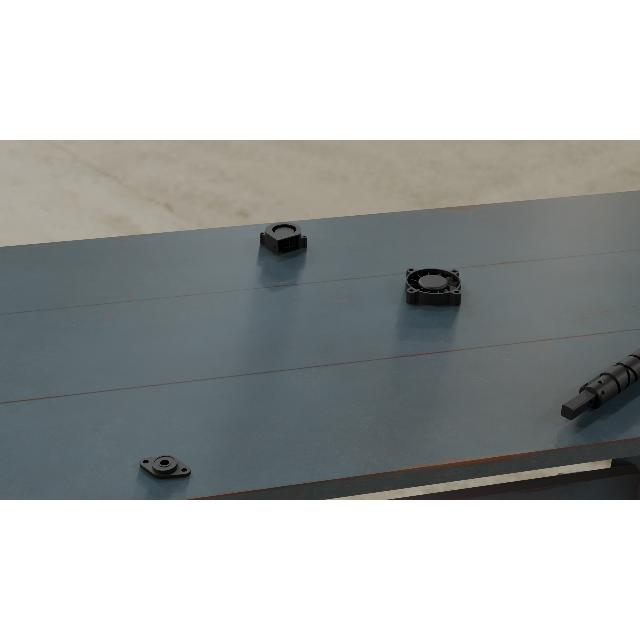Pieza1: (554, 332, 640, 430)
Pieza2: (133, 448, 197, 484)
Pieza3: (258, 220, 308, 256)
Pieza4: (406, 268, 462, 306)
